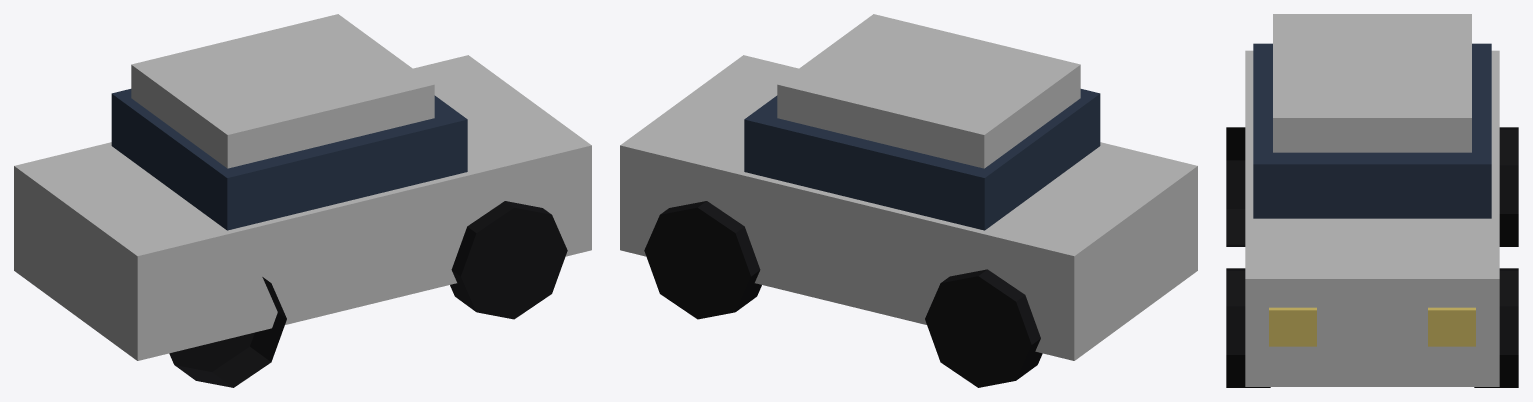
The model's file is car_small.glb.
The picture shows the model from 3 angles, left to right: view 1: azimuth 30°, elevation 25°; view 2: azimuth 150°, elevation 25°; view 3: azimuth 270°, elevation 25°; orthographic projection. The views are drawn at different scales.
Visible parts, largest first — view 1: car_small; view 2: car_small; view 3: car_small.
Boxes of the visible parts, x1,y1,x2,y2 form: car_small: (14, 14, 591, 387); car_small: (620, 14, 1197, 387); car_small: (1226, 14, 1518, 387).
Size of the model in its own units: 0.344 by 0.166 by 0.184.
